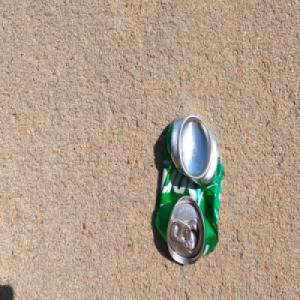SodaCan: (153, 112, 225, 266)
